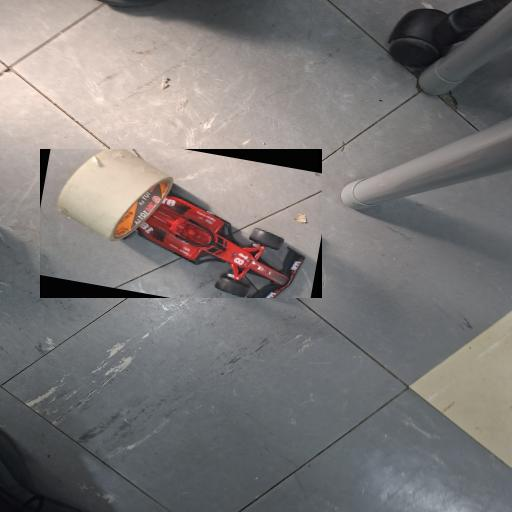carro: (41, 149, 318, 298)
